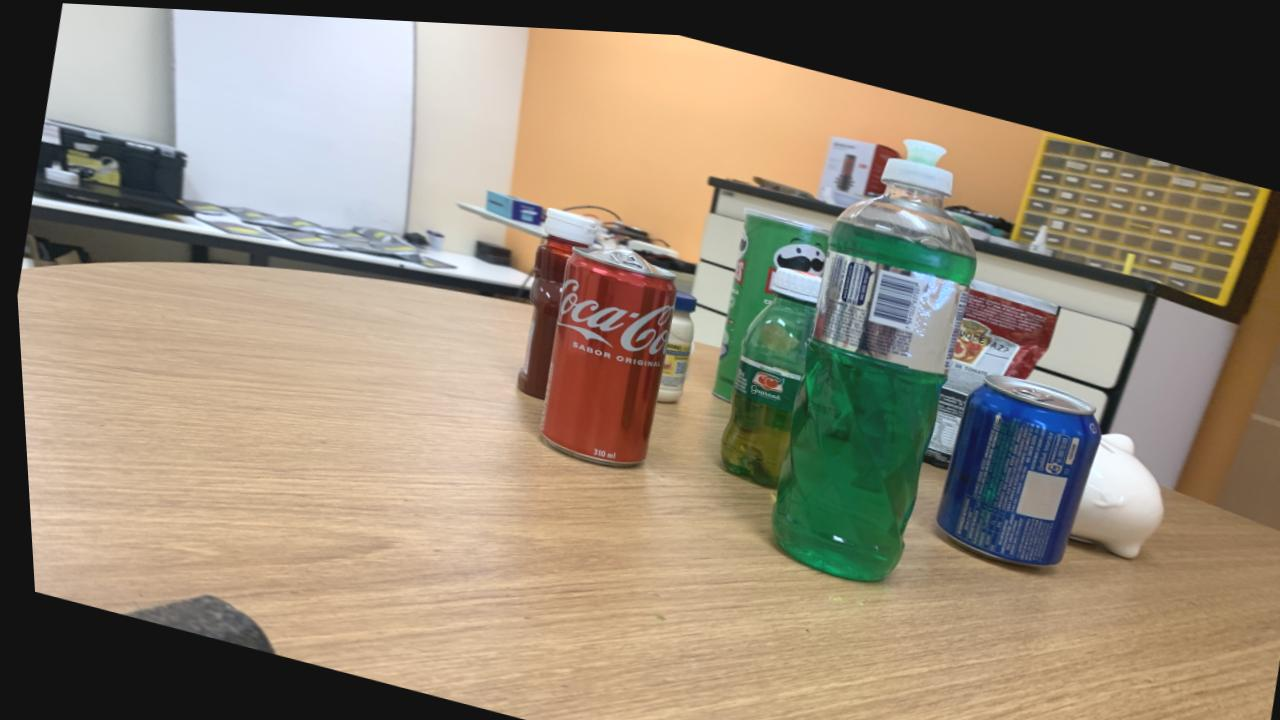Coke-Drinks: (535, 241, 672, 459)
Detergent-Cleanup_Items: (765, 129, 973, 572)
Guarana-Drinks: (714, 259, 818, 480)
Ketchup-Pantry_Items: (511, 201, 595, 394)
Mayonnaise-Pantry_Items: (653, 285, 693, 396)
Pig_Safe-Miscellaneous: (1064, 421, 1158, 547)
Pringles-Snacks: (706, 201, 826, 393)
Tomato_Sauce-Pantry_Items: (919, 270, 1055, 457)
Tonic-Drinks: (930, 364, 1096, 555)
